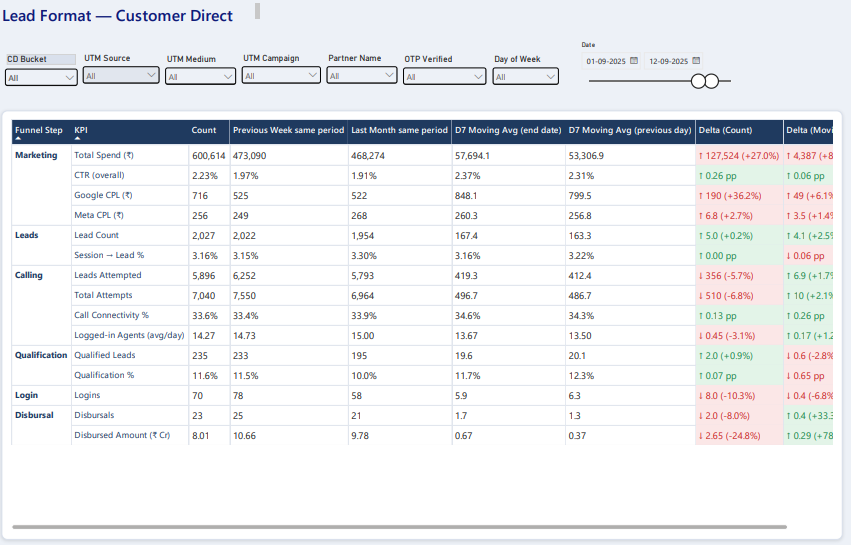

The page's visual inventory and layout, read from the dashboard file:
{"tool":"powerbi","page":{"name":"Dashboard","canvas":[1920,1080],"ordinal":0},"visuals":[{"type":"slicer","fields":{"Values":["Calendar.Date"]},"box":[1369.7,124.2,280,118],"z":0},{"type":"pivotTable","fields":{"Values":["_Measures.Count","_Measures.Previous Week same period","_Measures.Last Month same period","_Measures.D7 Moving Avg (end date)","_Measures.D7 Moving Avg (previous day)","_Measures.Delta (Count)","_Measures.Delta (Moving Avg)"],"Rows":["KPI.Funnel Step","KPI.KPI"]},"box":[393.3,241.7,1427.8,729.8],"z":1000},{"type":"slicer","fields":{"Values":["leads.cd_bucket"]},"box":[394.2,145.8,132.5,73.8],"z":2000},{"type":"slicer","fields":{"Values":["leads.utm_source"]},"box":[526.2,143.9,140,73.8],"z":3000},{"type":"slicer","fields":{"Values":["leads.utm_medium"]},"box":[666.1,145.8,130,73.8],"z":4000},{"type":"slicer","fields":{"Values":["leads.utm_campaign"]},"box":[796.2,143.9,143.8,73.8],"z":5000},{"type":"slicer","fields":{"Values":["leads.partner_name"]},"box":[940,144.3,130,73.8],"z":6000},{"type":"slicer","fields":{"Values":["leads.otp_verified"]},"box":[1070.1,145.8,151.2,73.8],"z":7000},{"type":"slicer","fields":{"Values":["Calendar.Day of Week"]},"box":[1221.9,145.8,122.5,73.8],"z":8000},{"type":"textbox","box":[394.3,58.6,437.1,45.7],"z":9000}]}

Visuals, with their boxes on the page's 1920x1080 design canvas (x1, y1, x2, y2). These are canvas units, not pixel positions in the 851x545 screenshot, which may show the page scaled, cropped or inside an application window:
slicer - Calendar.Date: 1370 124 1650 242
pivotTable - _Measures.Count x _Measures.Previous Week same period: 393 242 1821 972
slicer - leads.cd_bucket: 394 146 527 220
slicer - leads.utm_source: 526 144 666 218
slicer - leads.utm_medium: 666 146 796 220
slicer - leads.utm_campaign: 796 144 940 218
slicer - leads.partner_name: 940 144 1070 218
slicer - leads.otp_verified: 1070 146 1221 220
slicer - Calendar.Day of Week: 1222 146 1344 220
textbox: 394 59 831 104
